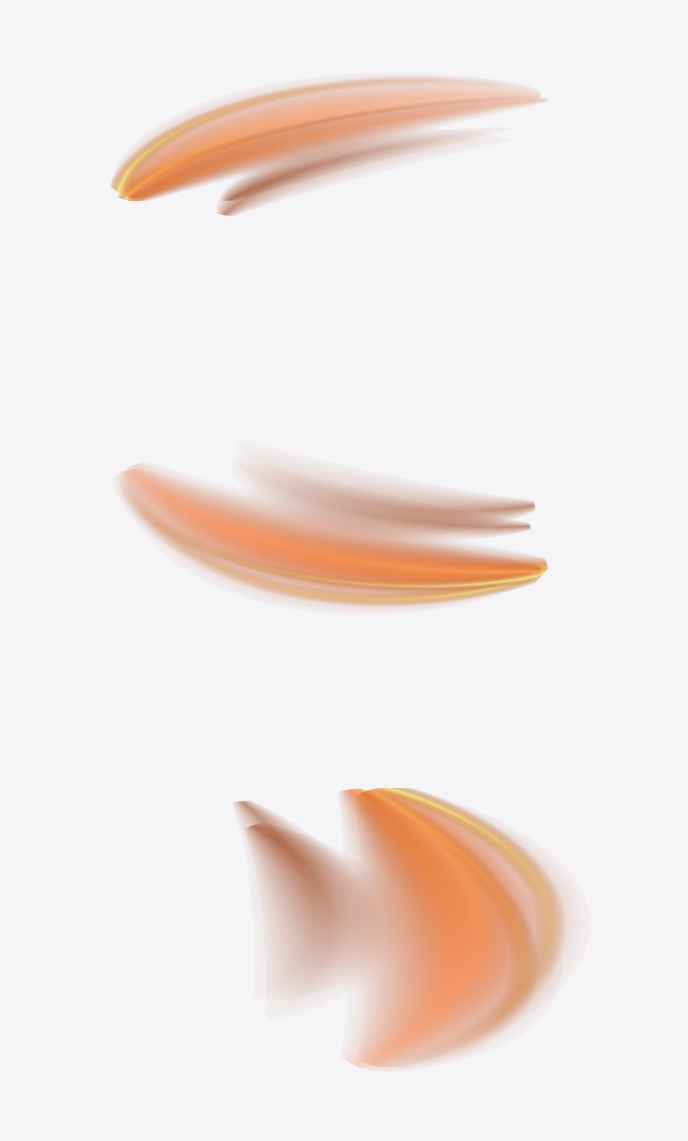
Rendered from fx_sw_flame.glb.
3 renders of one model, top to bottom at view 1: azimuth 30°, elevation 25°; view 2: azimuth 150°, elevation 25°; view 3: azimuth 270°, elevation 25°, orthographic. The views are drawn at different scales.
Parts seen in each view (by area): view 1: fx_sw; view 2: fx_sw; view 3: fx_sw.
Part boxes in pixels (x1,y1,x2,y2): fx_sw: (111,77,546,215); fx_sw: (117,464,547,606); fx_sw: (235,788,566,1069).
Bounding box in the file's own units: 1 × 0.22 × 1.
Materials: 1 (1 with a texture image).
